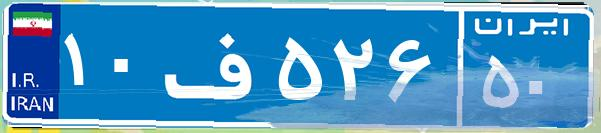0: (110, 28, 158, 105), (525, 38, 570, 115)
1: (57, 26, 110, 107)
2: (330, 28, 385, 110)
5: (273, 28, 330, 110), (475, 38, 525, 113)
6: (385, 28, 445, 110)
ف: (158, 15, 273, 115)
